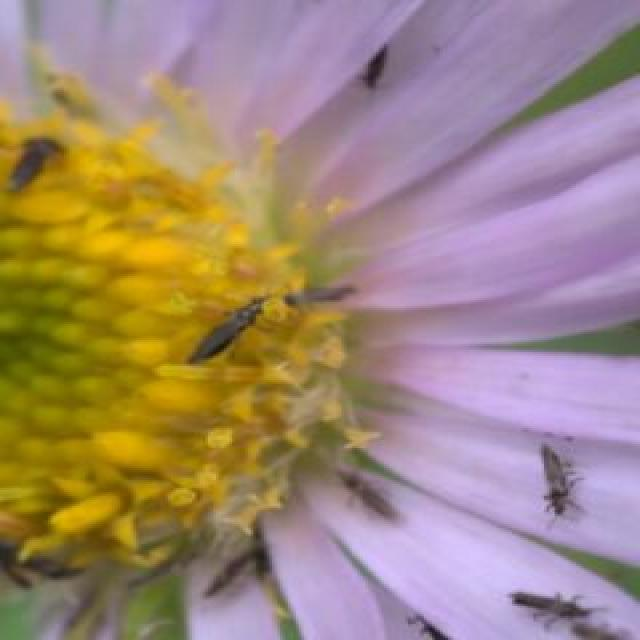Thrip-Adult-: (184, 531, 284, 606), (323, 462, 430, 531), (183, 288, 270, 370), (519, 426, 587, 528), (500, 579, 616, 631), (344, 39, 400, 96)
